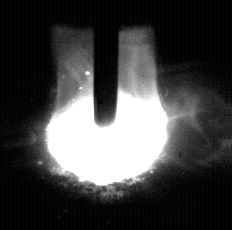arame: (95, 0, 117, 126)
poca: (45, 0, 169, 230)
